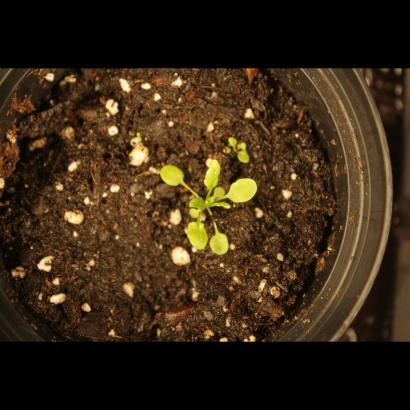leaf: (157, 161, 187, 192), (228, 177, 260, 206), (183, 220, 209, 253), (201, 157, 225, 190), (208, 227, 235, 256), (187, 196, 210, 219), (206, 190, 229, 213), (235, 150, 258, 173), (221, 127, 244, 150)
